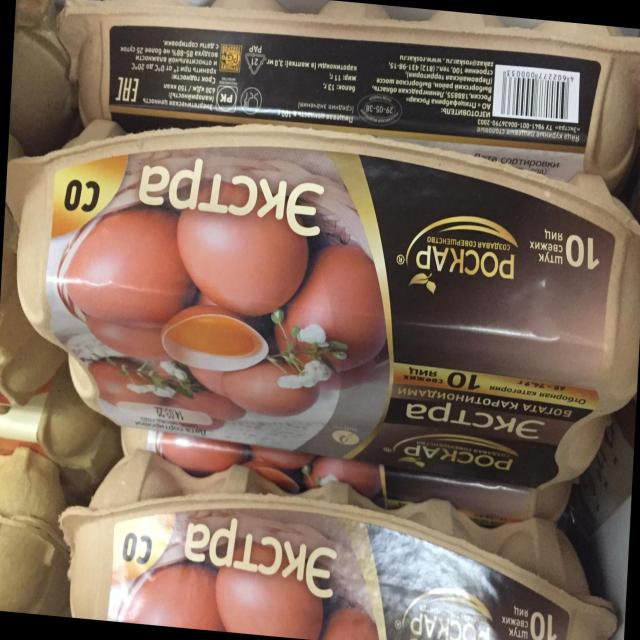organic waste: (0, 96, 640, 491), (51, 454, 628, 640)
